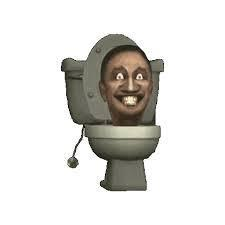skibidi-toilet: (101, 46, 154, 117)
